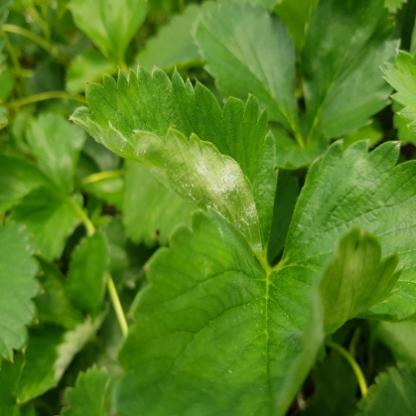Strawberry_Powdery_Mildew_Leaf: (66, 62, 278, 268)
